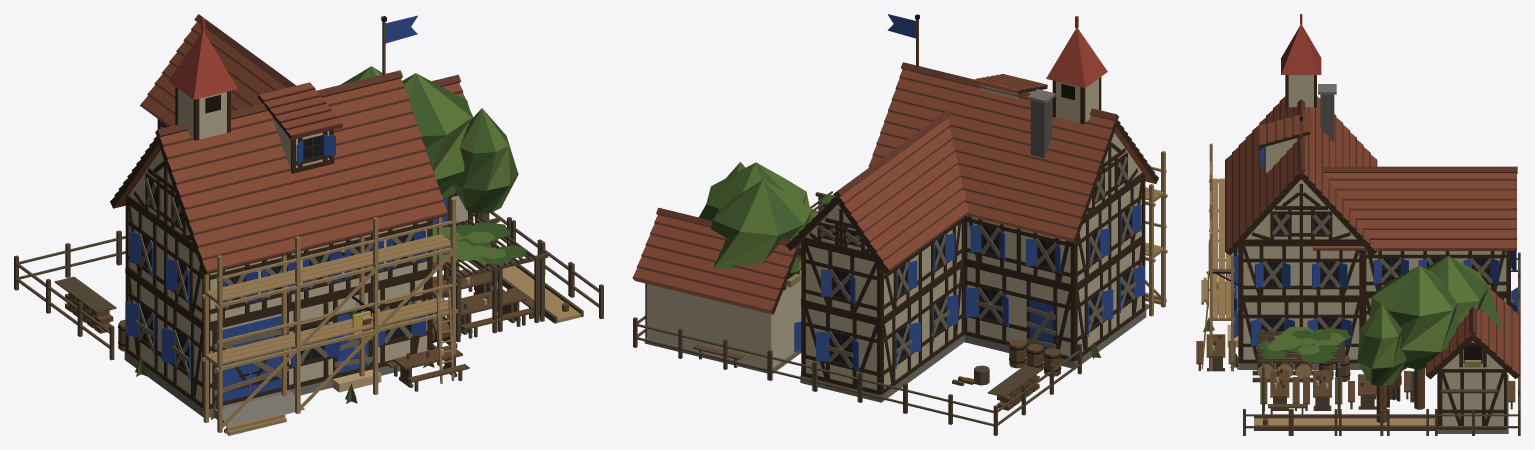
Rendered from wirt.glb.
The picture shows the model from 3 angles, left to right: view 1: azimuth 30°, elevation 25°; view 2: azimuth 150°, elevation 25°; view 3: azimuth 270°, elevation 25°; orthographic projection. The views are drawn at different scales.
Parts seen in each view (by area): view 1: Haus, Geruest, Stufe3, Stufe2, Stufe1, Leerstand, Laubkrone_Stufe1, Laubkrone_Stufe3, Fahne; view 2: Haus, Stufe3, Stufe1, Laubkrone_Stufe2, Leerstand, Laubkrone_Stufe1, Geruest, Stufe2, Fahne; view 3: Haus, Stufe3, Stufe2, Stufe1, Laubkrone_Stufe1, Geruest, Laubkrone_Stufe3, Laubkrone_Stufe2, Leerstand.
Part boxes in pixels (bbox=[...]): Haus: bbox=[110, 14, 448, 426]; Geruest: bbox=[201, 198, 457, 435]; Stufe3: bbox=[19, 18, 598, 342]; Stufe2: bbox=[258, 82, 583, 338]; Stufe1: bbox=[14, 212, 603, 391]; Leerstand: bbox=[135, 178, 434, 419]; Laubkrone_Stufe1: bbox=[402, 73, 472, 198]; Laubkrone_Stufe3: bbox=[452, 108, 518, 214]; Fahne: bbox=[381, 15, 417, 75]; Haus: bbox=[785, 62, 1158, 402]; Stufe3: bbox=[632, 16, 1107, 425]; Stufe1: bbox=[633, 316, 1081, 435]; Laubkrone_Stufe2: bbox=[711, 179, 813, 275]; Leerstand: bbox=[819, 157, 1136, 368]; Laubkrone_Stufe1: bbox=[699, 162, 809, 220]; Geruest: bbox=[1145, 151, 1167, 316]; Stufe2: bbox=[693, 73, 1047, 367]; Fahne: bbox=[887, 14, 919, 67]; Haus: bbox=[1206, 84, 1517, 369]; Stufe3: bbox=[1246, 14, 1520, 435]; Stufe2: bbox=[1254, 112, 1515, 430]; Stufe1: bbox=[1196, 252, 1520, 435]; Laubkrone_Stufe1: bbox=[1369, 265, 1459, 369]; Geruest: bbox=[1201, 143, 1234, 371]; Laubkrone_Stufe3: bbox=[1357, 303, 1406, 385]; Laubkrone_Stufe2: bbox=[1425, 255, 1501, 327]; Leerstand: bbox=[1203, 214, 1512, 369].
Bounding box in the file's own units: 15.79 × 13.17 × 13.69.
